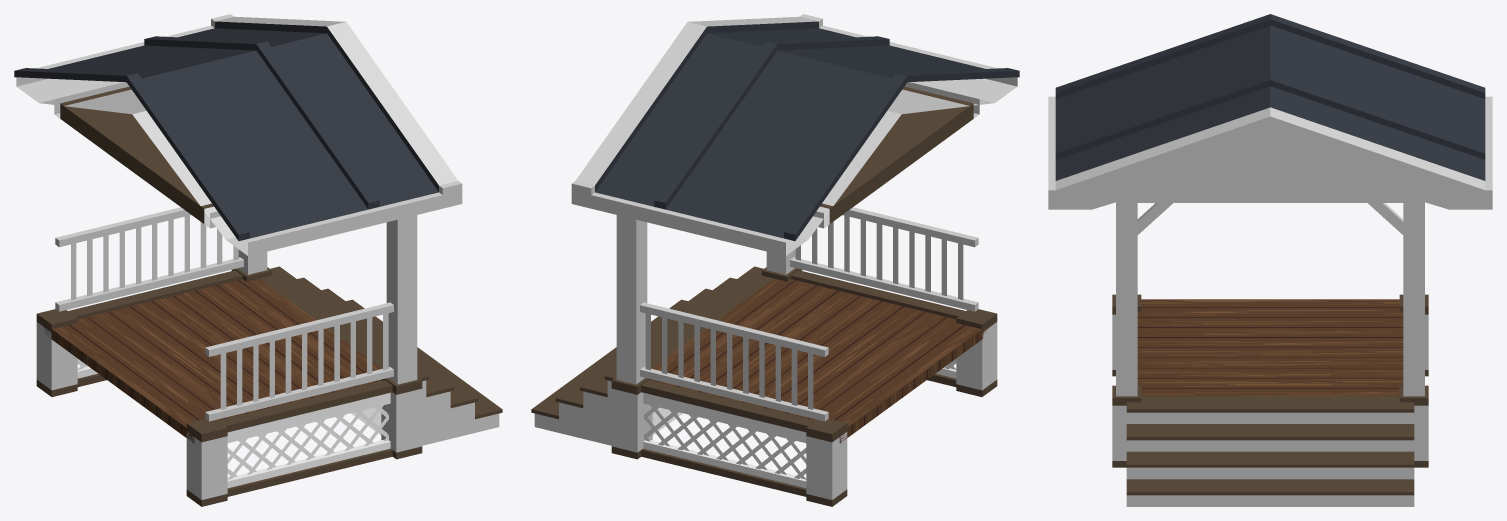
The model's file is SM_veranda_02.glb.
The picture shows the model from 3 angles, left to right: view 1: azimuth 30°, elevation 25°; view 2: azimuth 150°, elevation 25°; view 3: azimuth 270°, elevation 25°; orthographic projection. The views are drawn at different scales.
Visible parts, largest first — view 1: SM_veranda_02; view 2: SM_veranda_02; view 3: SM_veranda_02.
Part boxes in pixels (bbox=[...]): SM_veranda_02: bbox=[14, 14, 502, 506]; SM_veranda_02: bbox=[531, 14, 1019, 506]; SM_veranda_02: bbox=[1048, 14, 1492, 506].
Size of the model in its own units: 4.75 by 5.44 by 6.18.
Materials: 2 (2 with a texture image).
